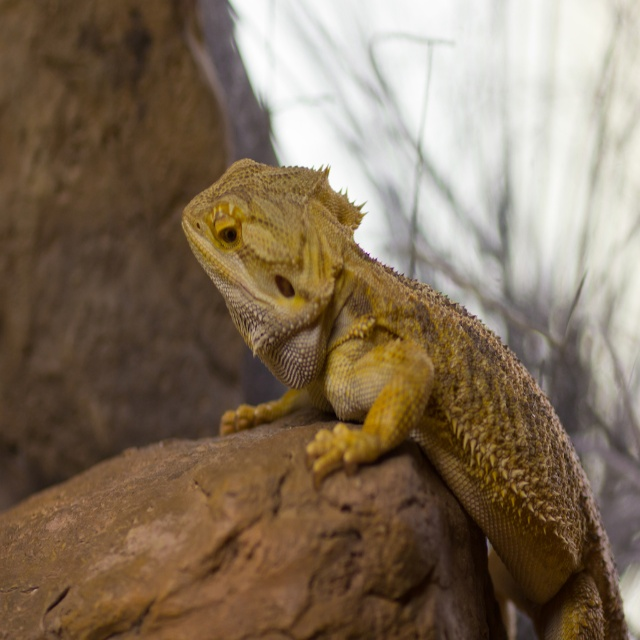Lizard: (181, 162, 627, 634)
